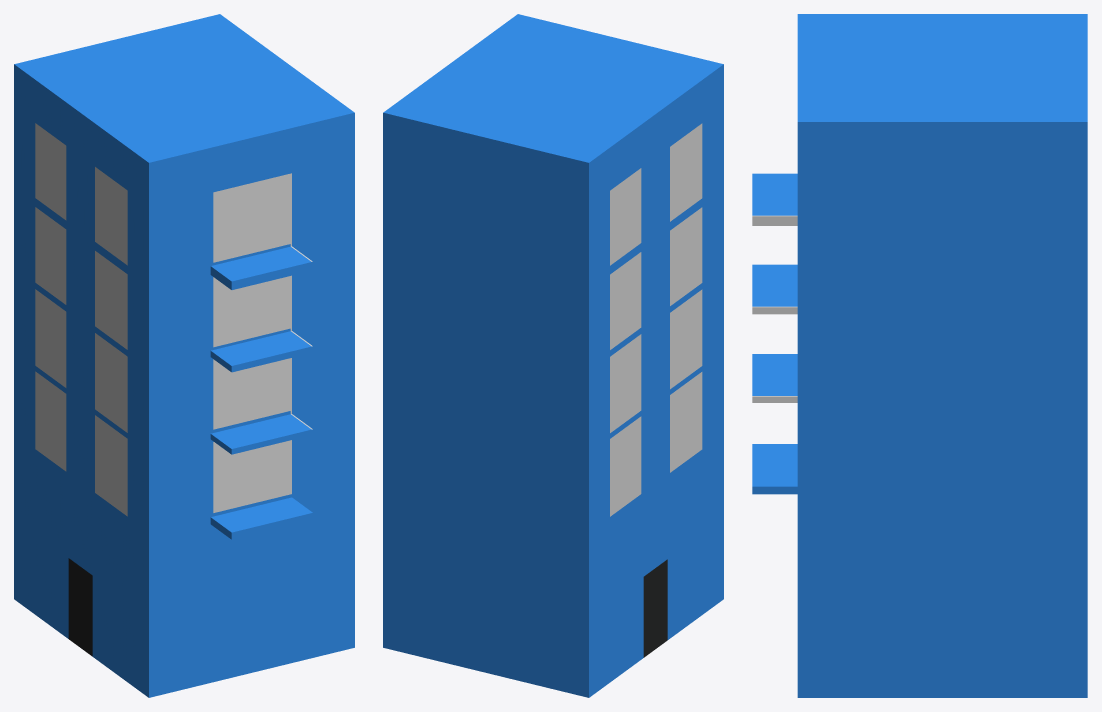
File: Building_Dealer.fbx
The picture shows the model from 3 angles, left to right: view 1: azimuth 30°, elevation 25°; view 2: azimuth 150°, elevation 25°; view 3: azimuth 270°, elevation 25°; orthographic projection. The views are drawn at different scales.
Visible parts, largest first — view 1: Cube; view 2: Cube; view 3: Cube.
Part boxes in pixels (x1=…): Cube: x1=14, y1=14, x2=354, y2=697; Cube: x1=383, y1=14, x2=723, y2=697; Cube: x1=752, y1=14, x2=1087, y2=697.
Size of the model in its own units: 519 by 1288 by 680.
